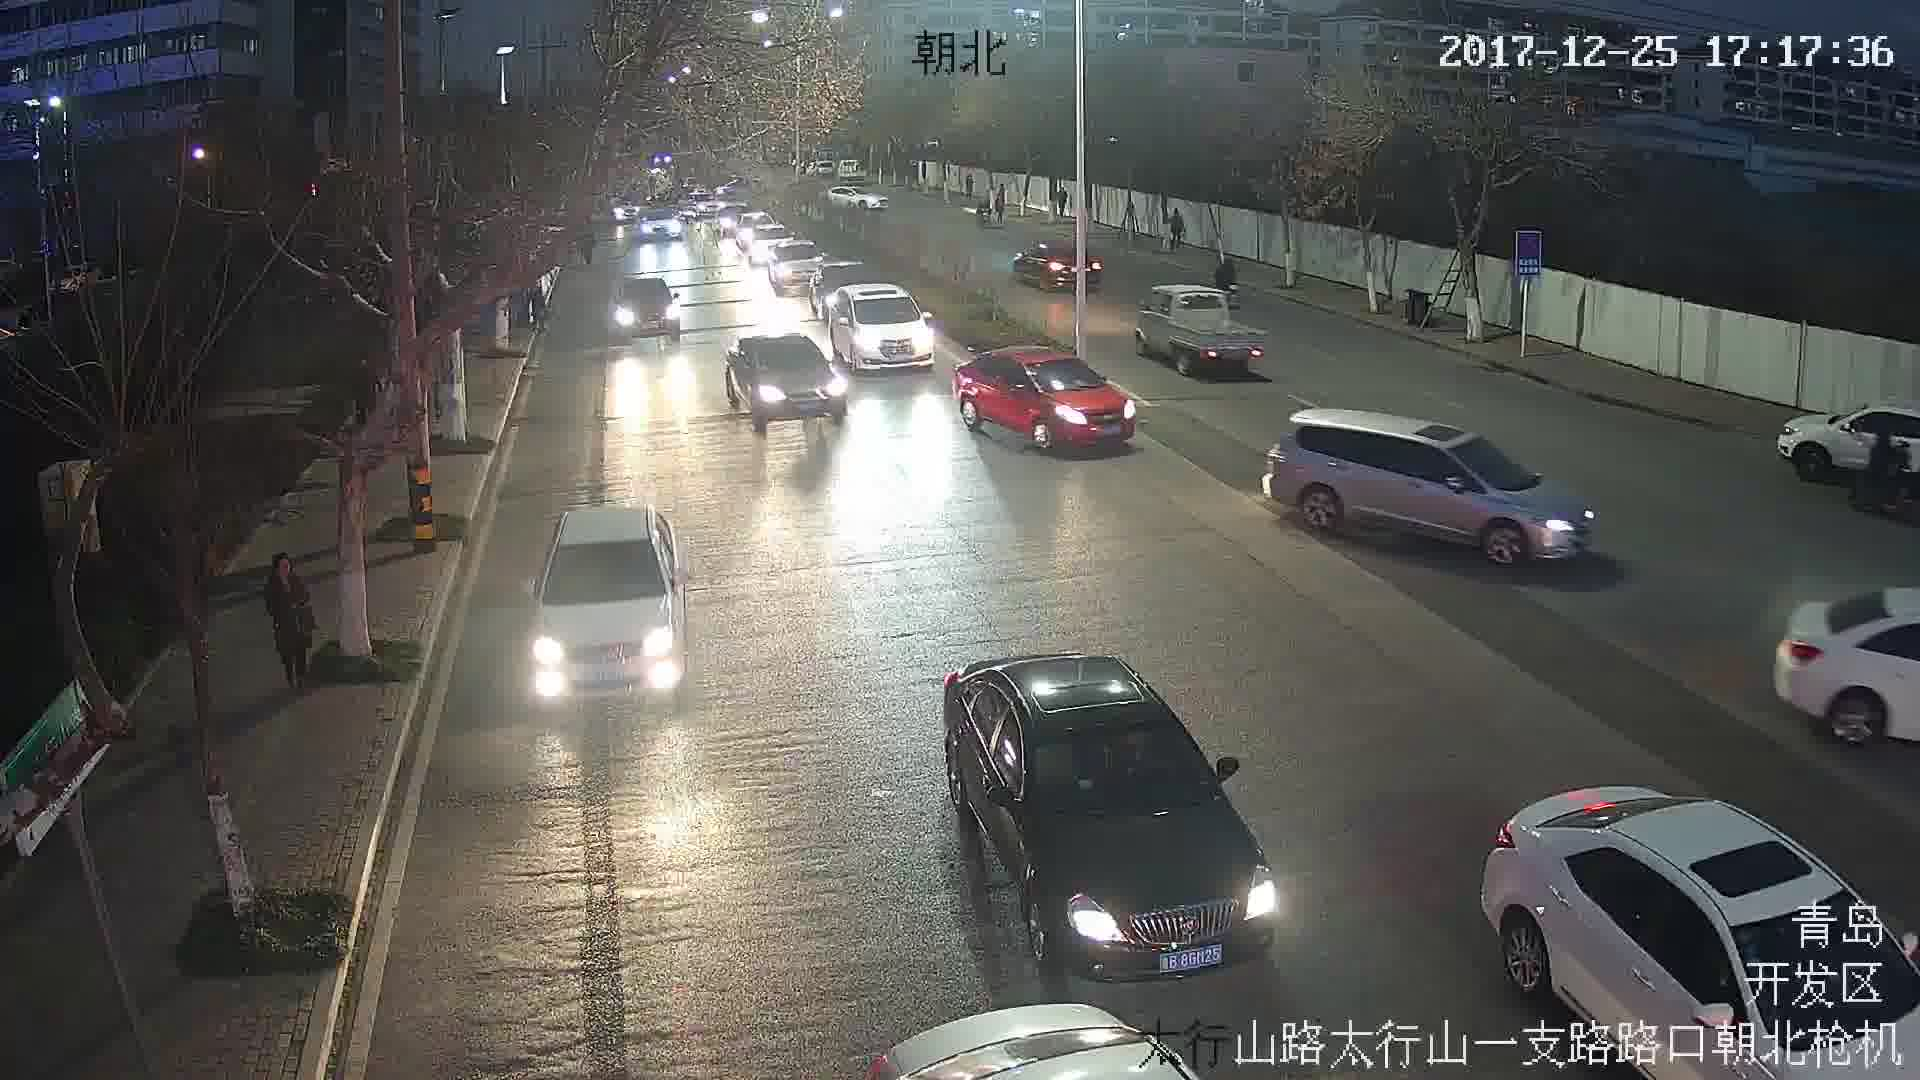car: (935, 655, 1278, 980), (1263, 412, 1596, 570), (523, 507, 687, 707), (959, 345, 1139, 453), (1138, 278, 1268, 374), (721, 330, 848, 423), (831, 282, 934, 369), (606, 275, 682, 352), (1013, 238, 1102, 289), (825, 181, 889, 213)
person: (267, 557, 317, 682), (1168, 203, 1188, 248)
